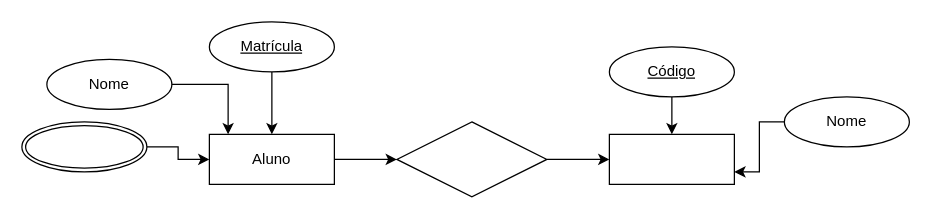
The diagram is 931 pixels wide and 219 high, and some of its shapes have lost their labels. The shapes that lost their labels are listed below. From the top down, each one's centre as x and y in pixels, then its label:
At (x=84, y=146): "Telefone".
At (x=471, y=159): "Matriculado".
At (x=671, y=158): "Curso".
